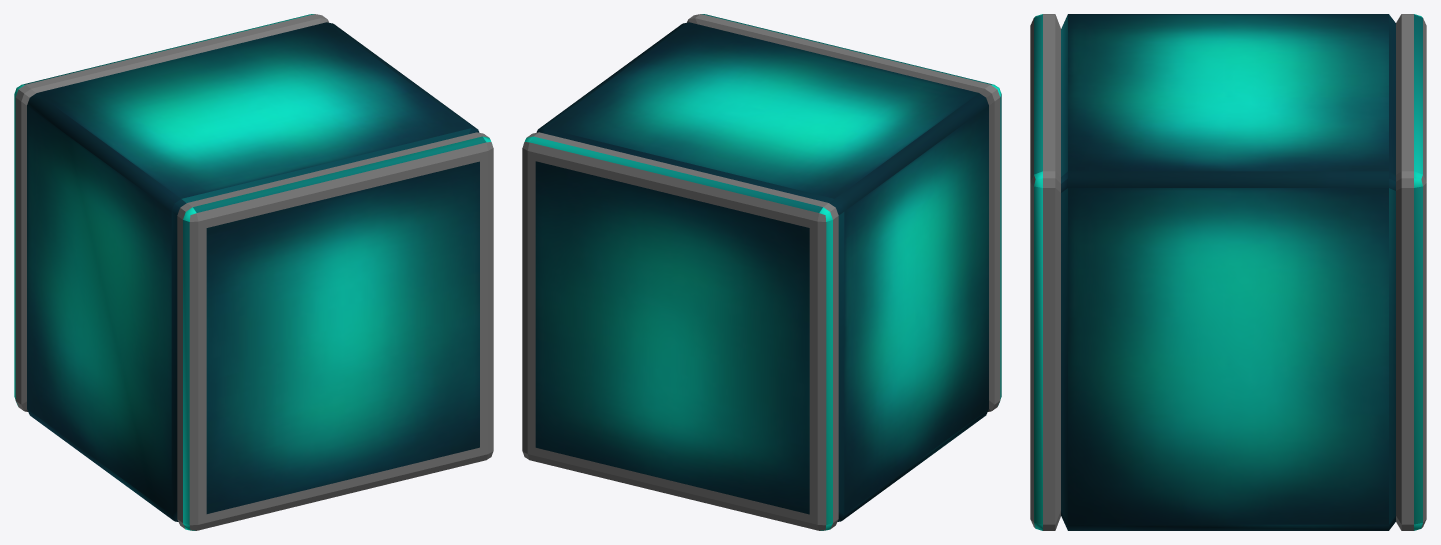
The model's file is Glo-Block-g.fbx.
The picture shows the model from 3 angles, left to right: view 1: azimuth 30°, elevation 25°; view 2: azimuth 150°, elevation 25°; view 3: azimuth 270°, elevation 25°; orthographic projection. The views are drawn at different scales.
Visible parts, largest first — view 1: Cube; view 2: Cube; view 3: Cube.
Part boxes in pixels (<box>): Cube: <box>14,14,493,530</box>; Cube: <box>522,14,1001,530</box>; Cube: <box>1030,14,1426,530</box>.
Size of the model in its own units: 99.99 by 99.99 by 99.99.
Materials: 2 (1 with a texture image).
